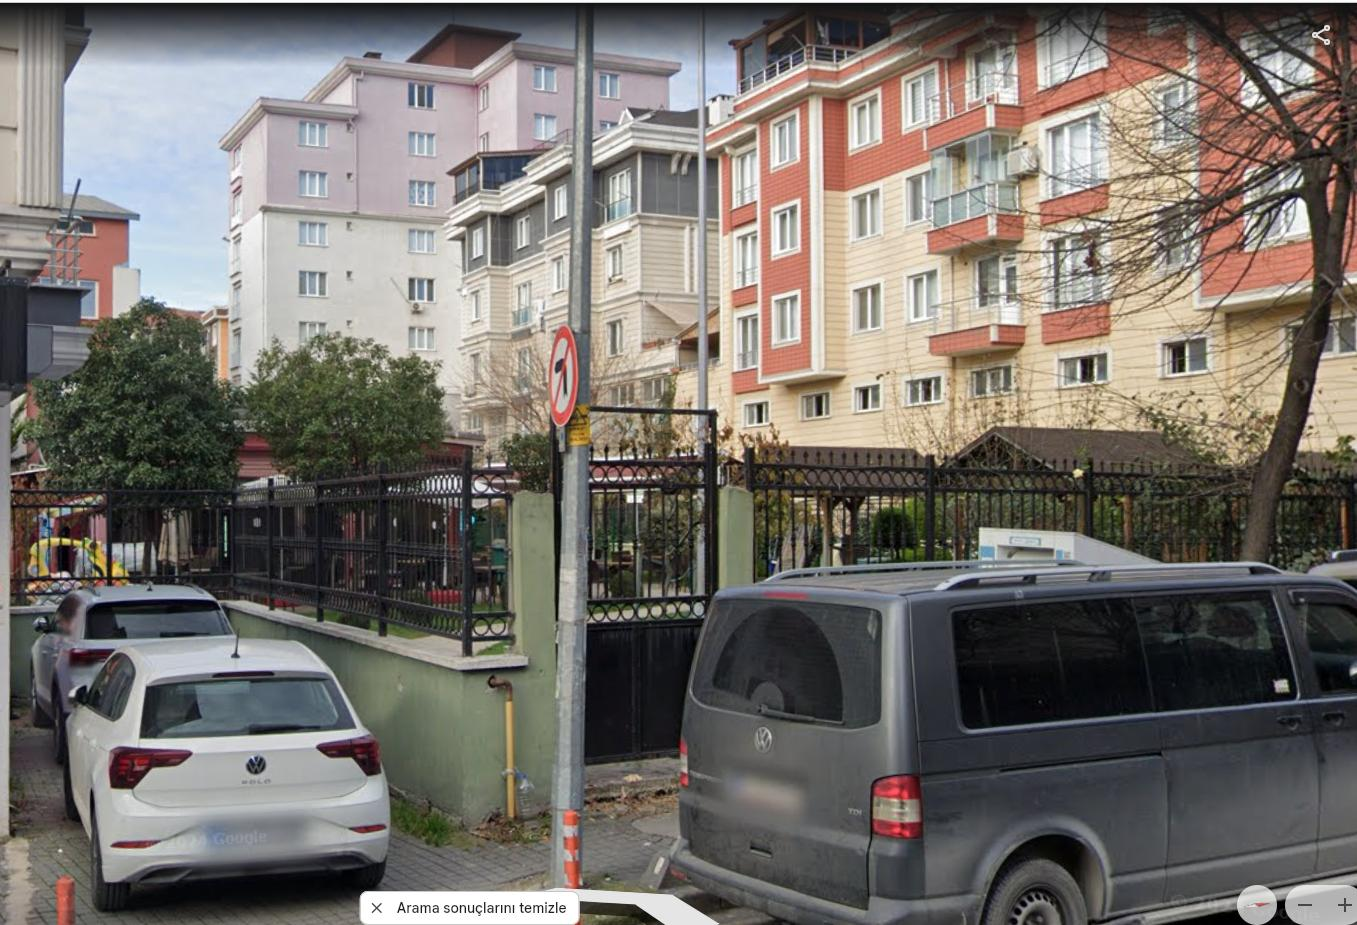leftturnsareforbidden: (545, 326, 581, 425)
